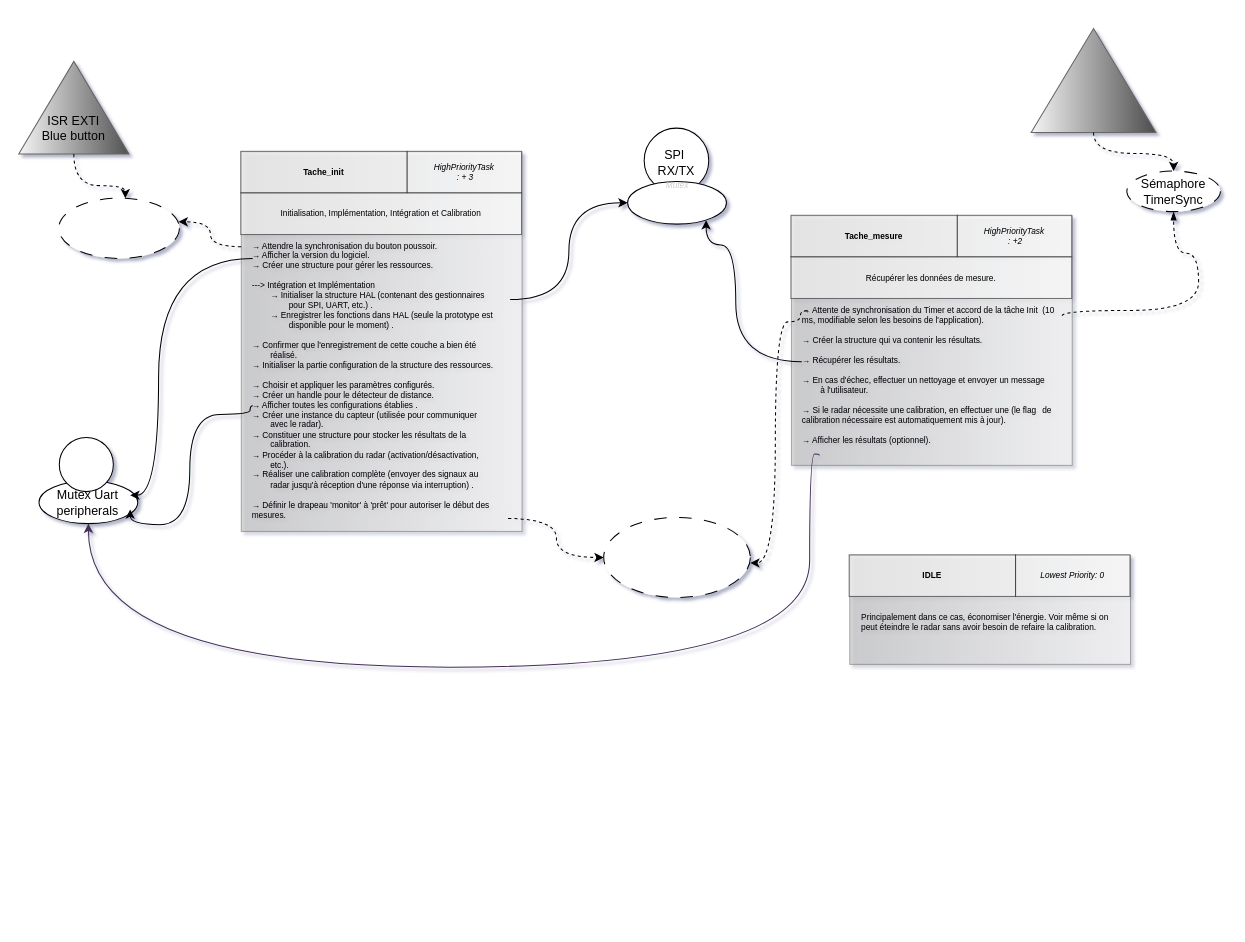
This 1245x942 diagram has some shape labels left out. Each missing label, with the centre of its shape:
"ISR Timer 10 ms" goes at point 1093,80.
"Mutex SPI peripherals" goes at point 676,202.
"Sémaphore pour signaler à la tâche de mesure de commencer." goes at point 676,556.
"Sémaphore Sync avec Tach_Init" goes at point 118,227.
"UART TX" goes at point 85,464.
